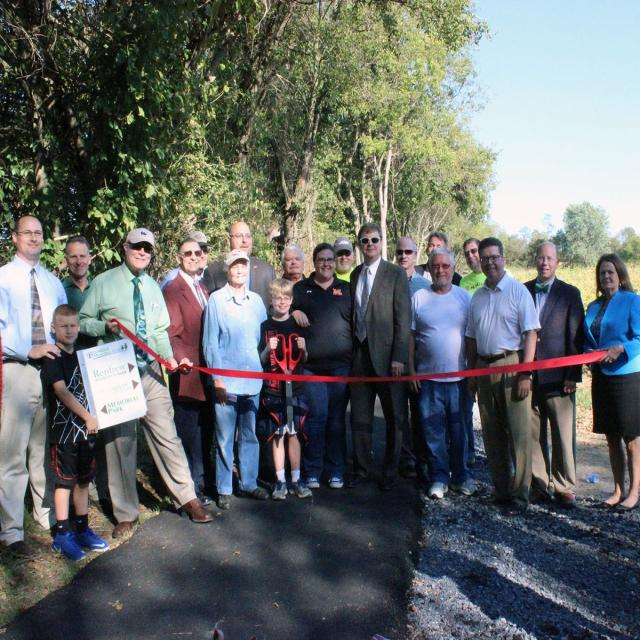body: (73, 224, 217, 543), (37, 302, 151, 565), (459, 233, 544, 520), (0, 213, 69, 559), (200, 247, 272, 512), (406, 246, 480, 501), (346, 220, 415, 491), (520, 239, 588, 508), (287, 241, 357, 490), (578, 247, 640, 514), (161, 236, 214, 509), (61, 234, 111, 510), (258, 275, 314, 504), (386, 233, 434, 474), (201, 219, 278, 318), (158, 230, 209, 290), (412, 230, 463, 288), (458, 236, 488, 298), (279, 243, 308, 285), (333, 236, 355, 284)
